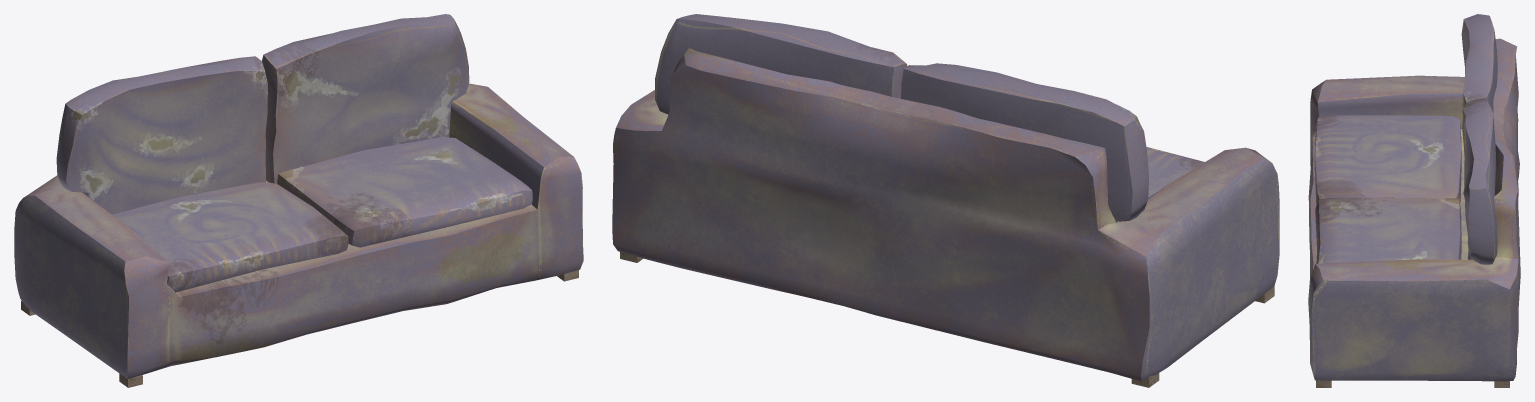
File: torn_old_sofa.glb
3 views of the same model, side by side, from view 1: azimuth 30°, elevation 25°; view 2: azimuth 150°, elevation 25°; view 3: azimuth 270°, elevation 25° (orthographic). The views are drawn at different scales.
Visible parts, largest first — view 1: polySurface17, polySurface18; view 2: polySurface18, polySurface17; view 3: polySurface18, polySurface17.
Boxes of the visible parts, x1,y1,x2,y2 form: polySurface17: (21, 14, 578, 387); polySurface18: (14, 83, 583, 378); polySurface18: (612, 48, 1279, 381); polySurface17: (620, 14, 1274, 387); polySurface18: (1308, 38, 1520, 381); polySurface17: (1314, 14, 1509, 387).
Size of the model in its own units: 2.35 by 1.06 by 1.03.
Materials: 2 (2 with a texture image).
